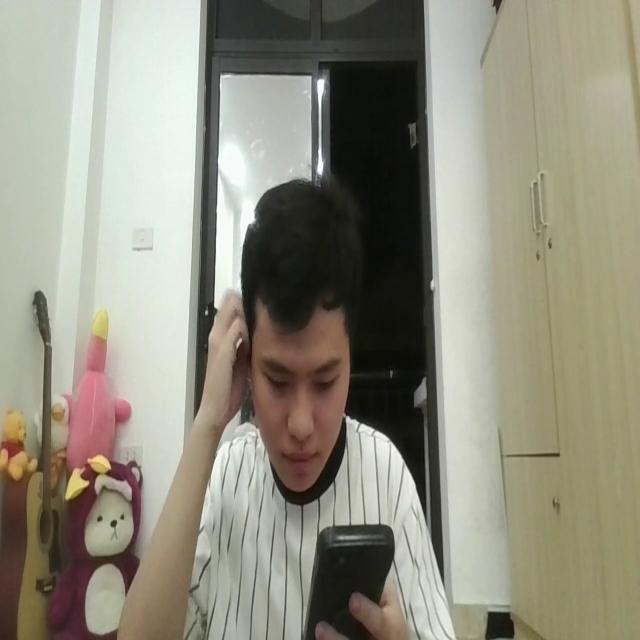phone: (300, 514, 397, 640)
student: (115, 177, 452, 640)
